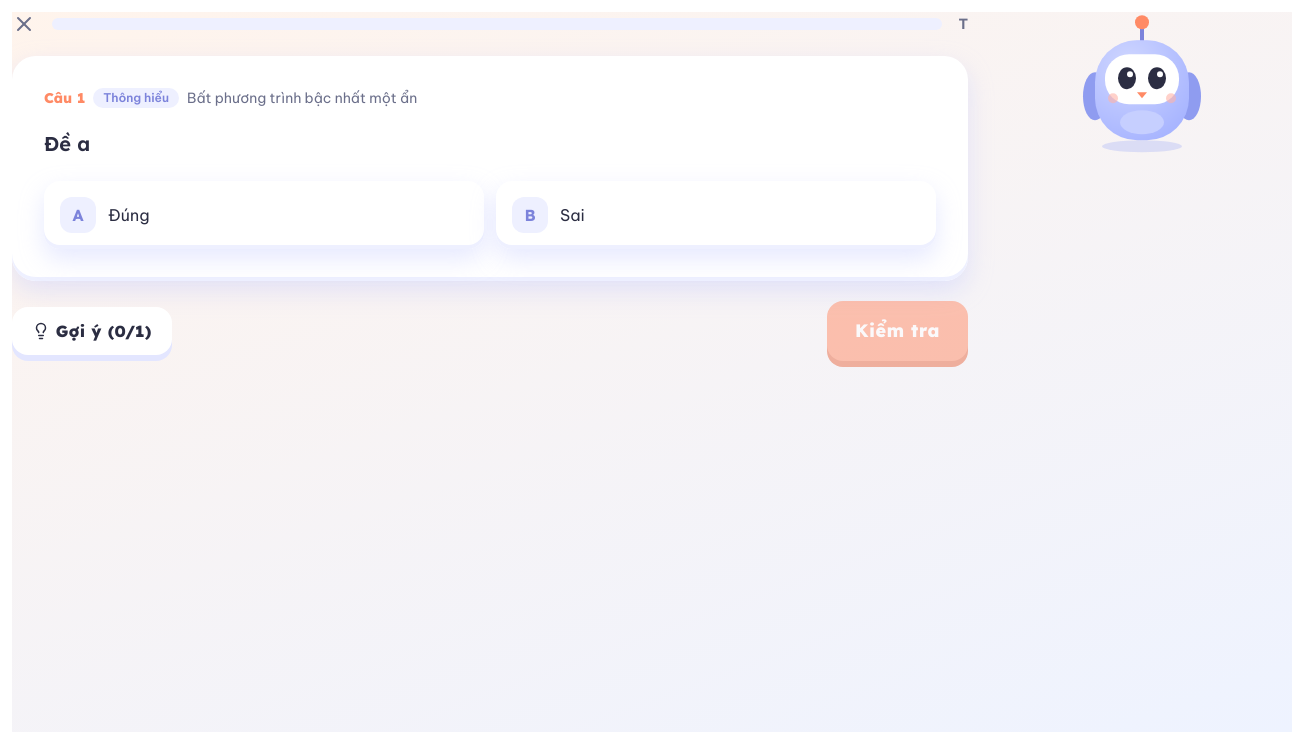
Test: PracticeRunner › Kiểm tra disabled until answered; hints reveal
Expected: the button "Kiểm tra" is disabled, [827,300,968,360]
Click the button "Gợi ý (0/1)".
click(92, 330)  # box [12,306,172,354]
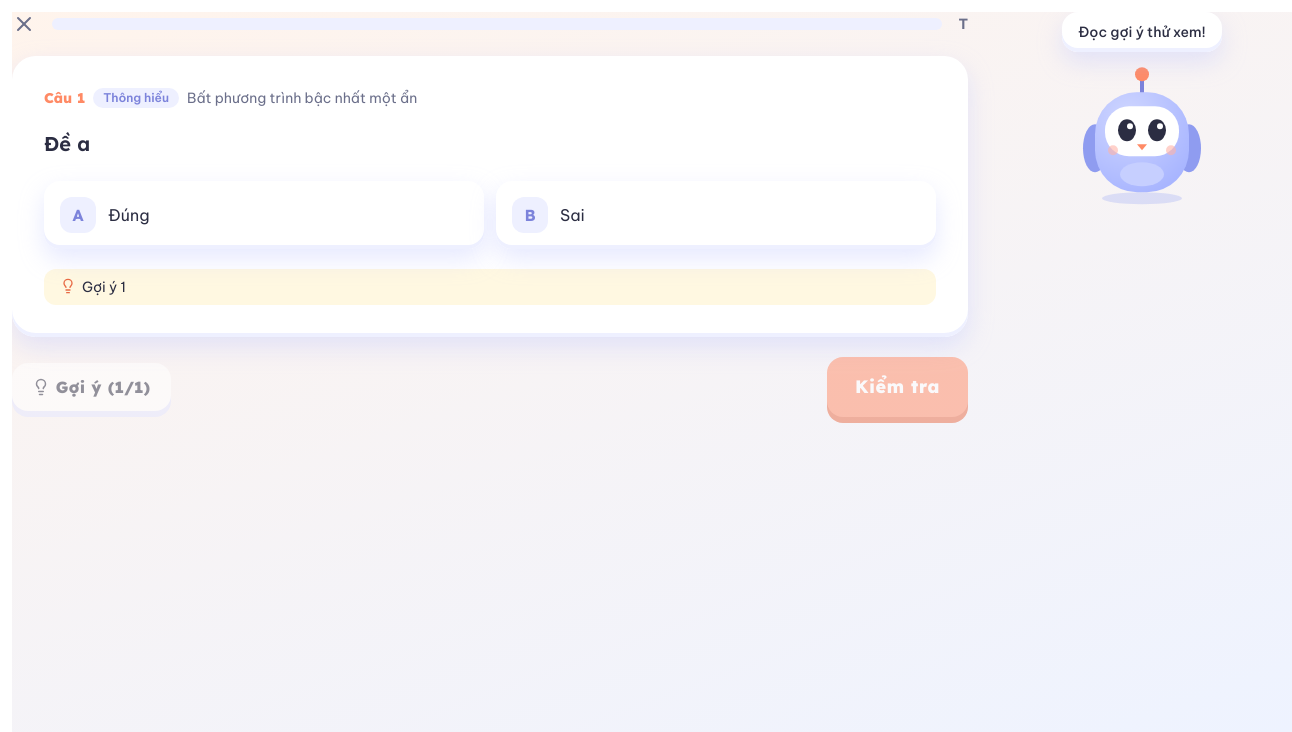
Expected: the text "Gợi ý 1" is shown, [82,278,126,296]
